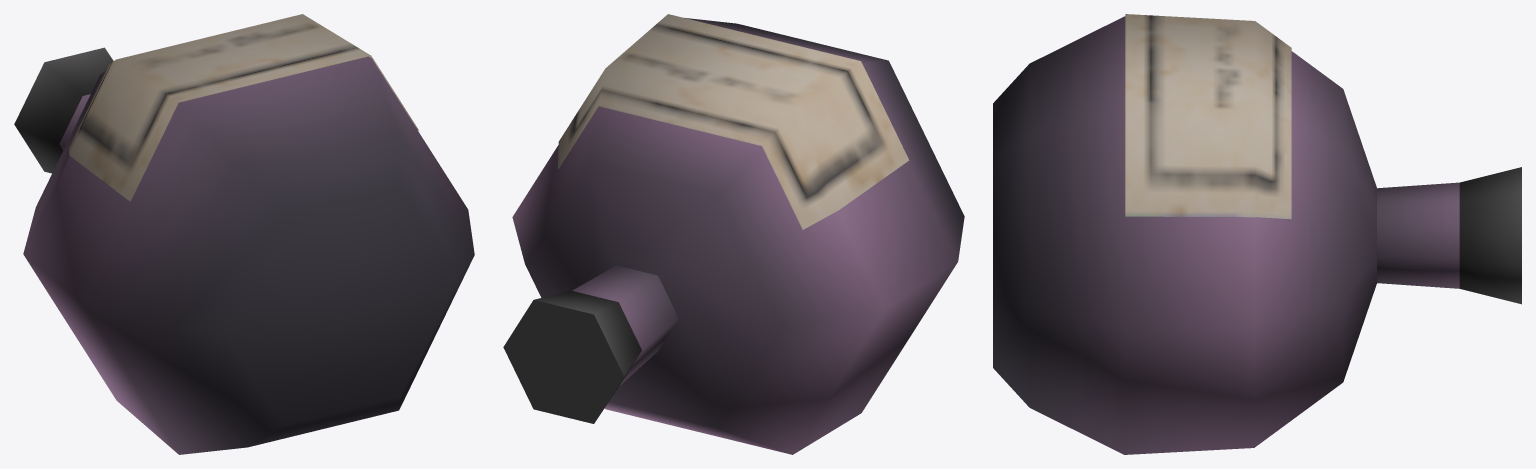
The model's file is Bottle_A.fbx.
The picture shows the model from 3 angles, left to right: view 1: azimuth 30°, elevation 25°; view 2: azimuth 150°, elevation 25°; view 3: azimuth 270°, elevation 25°; orthographic projection.
Visible parts, largest first — view 1: Bottle_A; view 2: Bottle_A; view 3: Bottle_A.
Part boxes in pixels (box(x1,y1,x2,y2)): Bottle_A: box(14, 14, 474, 454); Bottle_A: box(503, 14, 964, 454); Bottle_A: box(993, 14, 1521, 454).
Bounding box in the file's own units: 0.3803 × 0.3317 × 0.4568.
